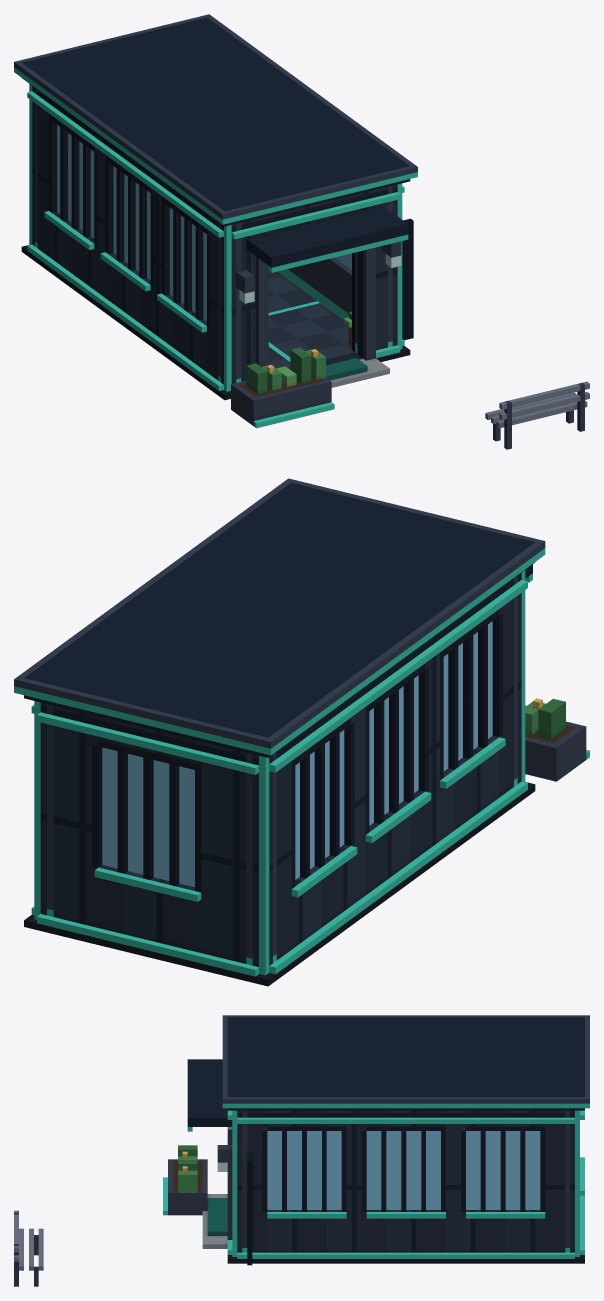
The picture shows the model from 3 angles, top to bottom: view 1: azimuth 30°, elevation 25°; view 2: azimuth 150°, elevation 25°; view 3: azimuth 270°, elevation 25°; orthographic projection. The views are drawn at different scales.
Parts seen in each view (by area): view 1: CutRoof, Base, CutNX, CutPZ, CutNZ; view 2: CutRoof, CutNZ, Base, CutNX, CutPZ; view 3: CutRoof, CutPX, Base, CutPZ, CutNZ.
Boxes of the visible parts, x1,y1,x2,y2 form: CutRoof: [14, 14, 417, 226]; Base: [21, 202, 589, 449]; CutNX: [27, 90, 223, 339]; CutPZ: [218, 183, 413, 345]; CutNZ: [29, 84, 37, 207]; CutRoof: [14, 478, 545, 757]; CutNZ: [34, 701, 276, 914]; Base: [24, 698, 589, 986]; CutNX: [269, 578, 527, 906]; CutPZ: [514, 564, 532, 732]; CutRoof: [222, 1015, 589, 1110]; CutPX: [237, 1110, 574, 1218]; Base: [14, 1145, 584, 1286]; CutPZ: [187, 1059, 252, 1224]; CutNZ: [565, 1110, 584, 1216].
Size of the model in its own units: 5.1 by 3.7 by 11.6.
